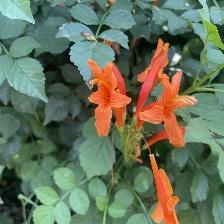honeysuckle: (86, 58, 133, 146)
